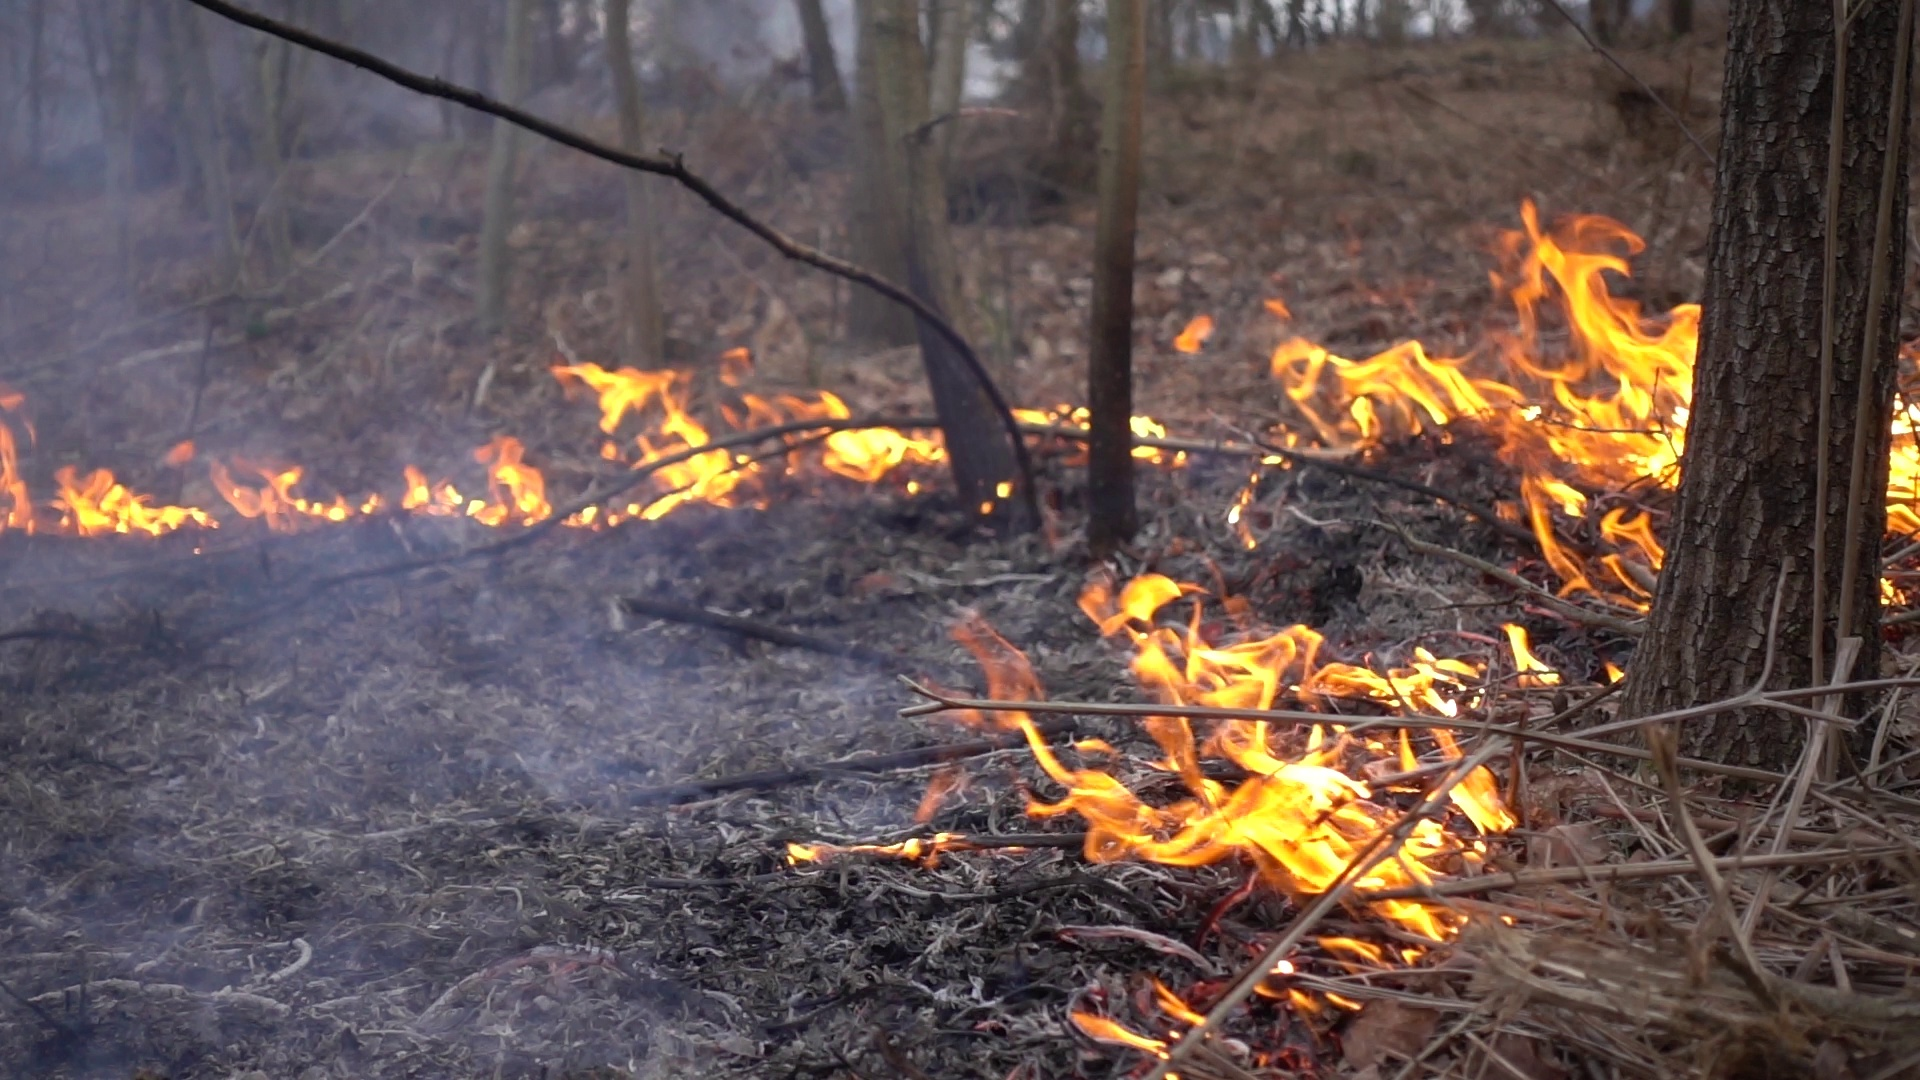fire: (964, 563, 1520, 928), (1495, 208, 1700, 616), (558, 364, 762, 521), (1274, 336, 1468, 459), (401, 450, 545, 524), (57, 465, 200, 538), (824, 425, 942, 488), (1888, 417, 1920, 529), (3, 438, 26, 526), (1515, 632, 1531, 679)
